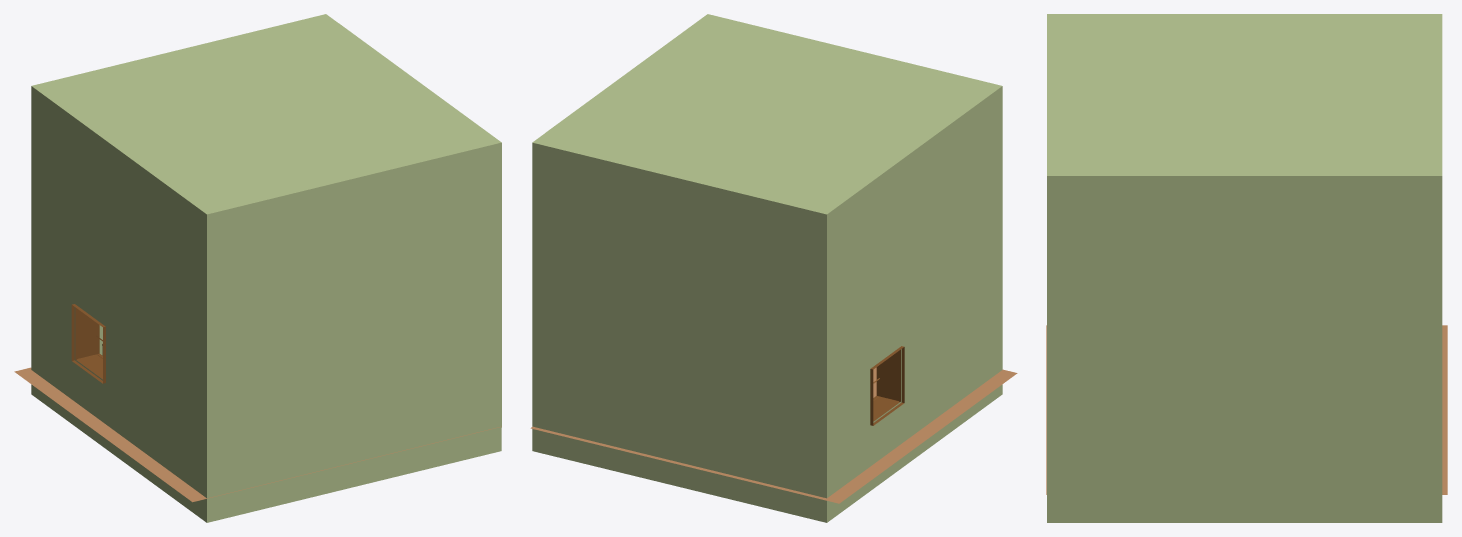
File: room_v16_draco.glb
3 views of the same model, side by side, from view 1: azimuth 30°, elevation 25°; view 2: azimuth 150°, elevation 25°; view 3: azimuth 270°, elevation 25° (orthographic). The views are drawn at different scales.
Parts seen in each view (by area): view 1: walls, Plane.009, window_frame; view 2: walls, Plane.009, window_frame; view 3: walls, Plane.009.
Part boxes in pixels (x1,y1,x2,y2): walls: (31,14,501,522); Plane.009: (14,367,501,502); window_frame: (71,304,105,383); walls: (532,14,1002,522); Plane.009: (530,367,1017,503); window_frame: (870,346,904,425); walls: (1047,14,1442,522); Plane.009: (1046,325,1447,494).
Size of the model in its own units: 8.37 by 7.97 by 8.35.
